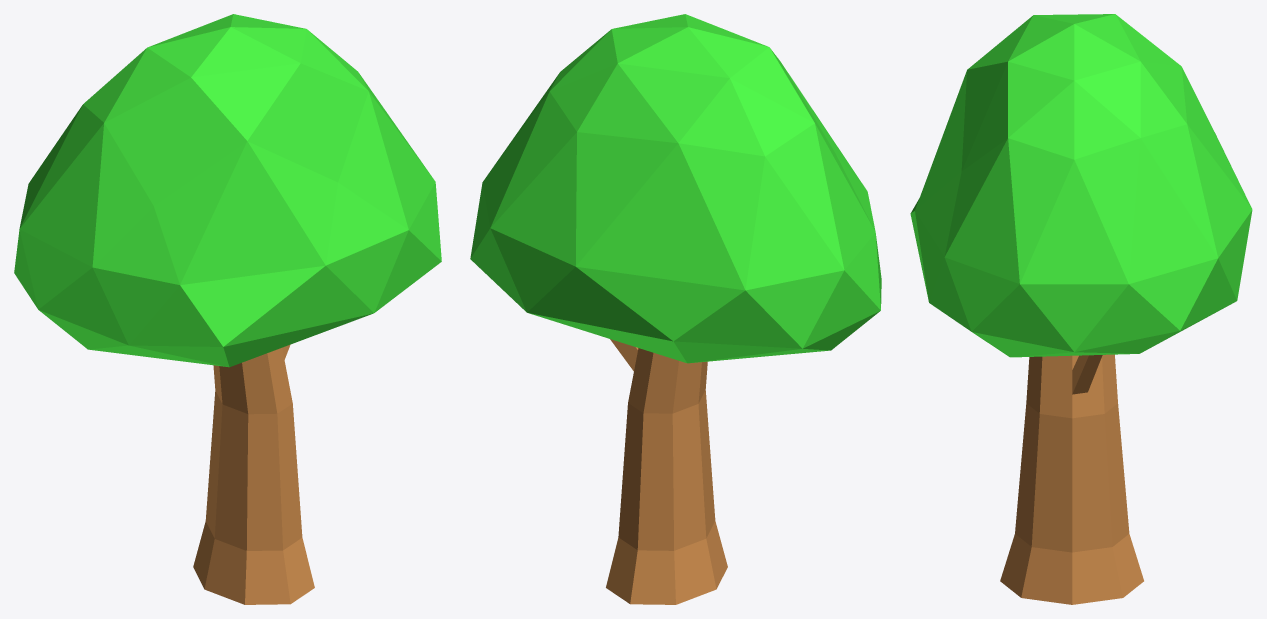
The model's file is tree_02.glb.
The picture shows the model from 3 angles, left to right: view 1: azimuth 30°, elevation 25°; view 2: azimuth 150°, elevation 25°; view 3: azimuth 270°, elevation 25°; orthographic projection.
Visible parts, largest first — view 1: Leaf_2, Trunk_2; view 2: Leaf_2, Trunk_2; view 3: Leaf_2, Trunk_2.
Part boxes in pixels (x1,y1,x2,y2): Leaf_2: [14, 14, 441, 367]; Trunk_2: [193, 344, 314, 604]; Leaf_2: [470, 14, 881, 363]; Trunk_2: [606, 339, 727, 604]; Leaf_2: [910, 14, 1252, 357]; Trunk_2: [1000, 354, 1143, 604].
Size of the model in its own units: 3.41 by 4.8 by 2.72.
Materials: 1 (1 with a texture image).
